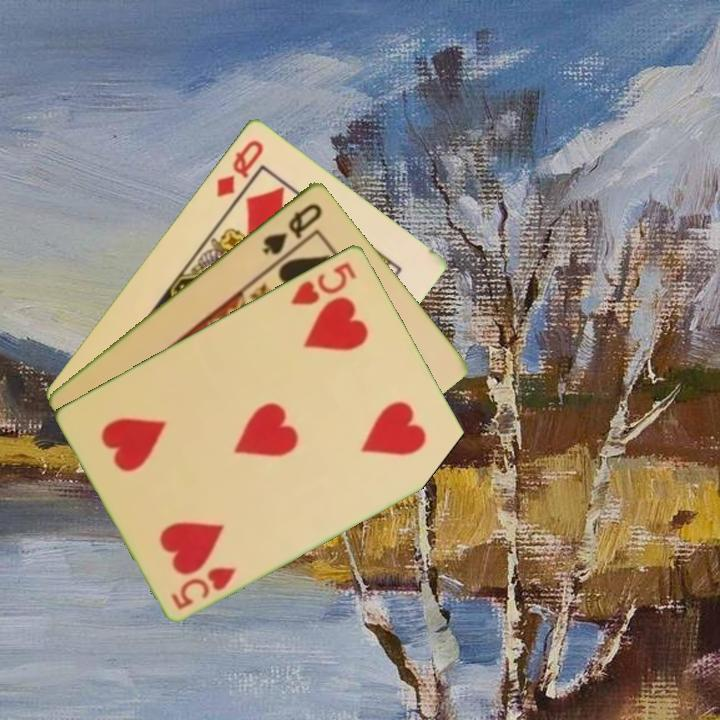5h: (287, 258, 359, 308), (168, 562, 239, 612)
Qd: (212, 135, 267, 200)
Qs: (259, 199, 326, 258)
